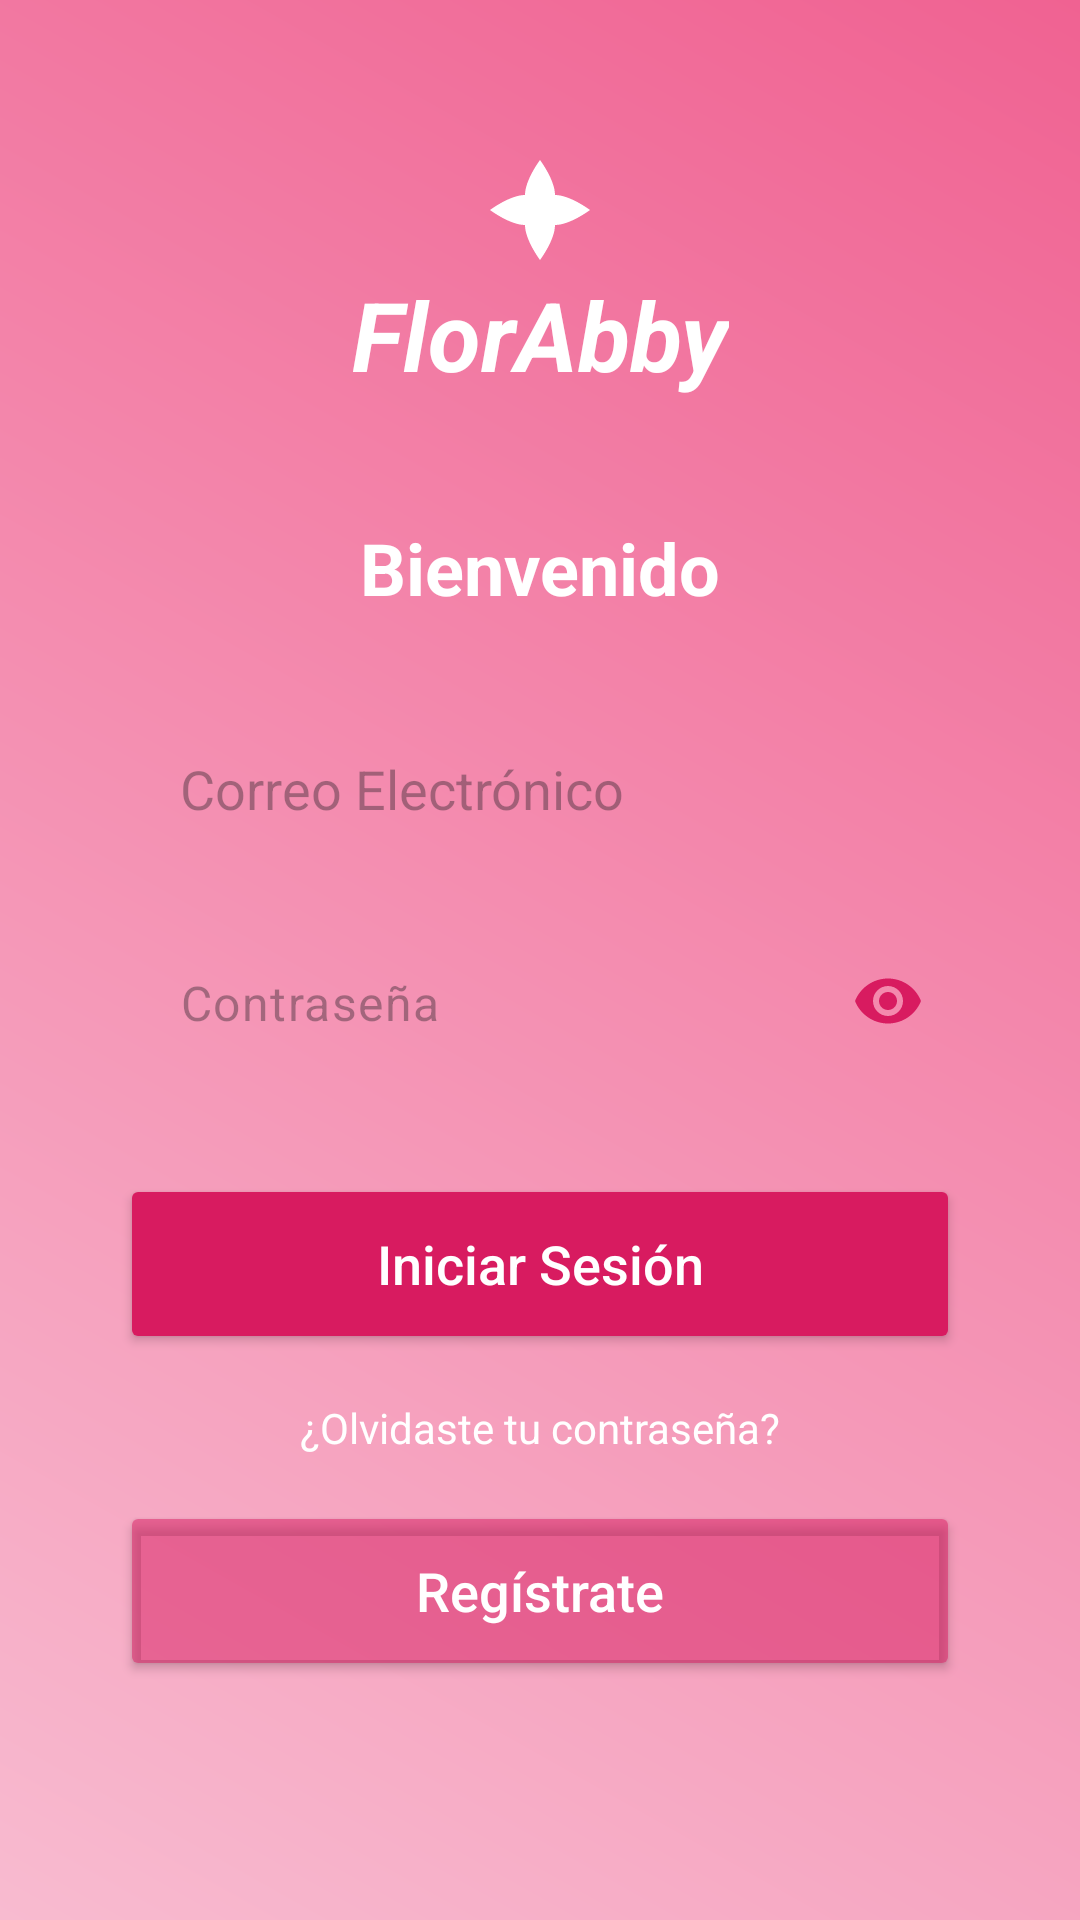

Screen size 1080px×1920px. Icon name, then its center in pixels as (x=x, y=y):
flower: (x=540, y=210)
